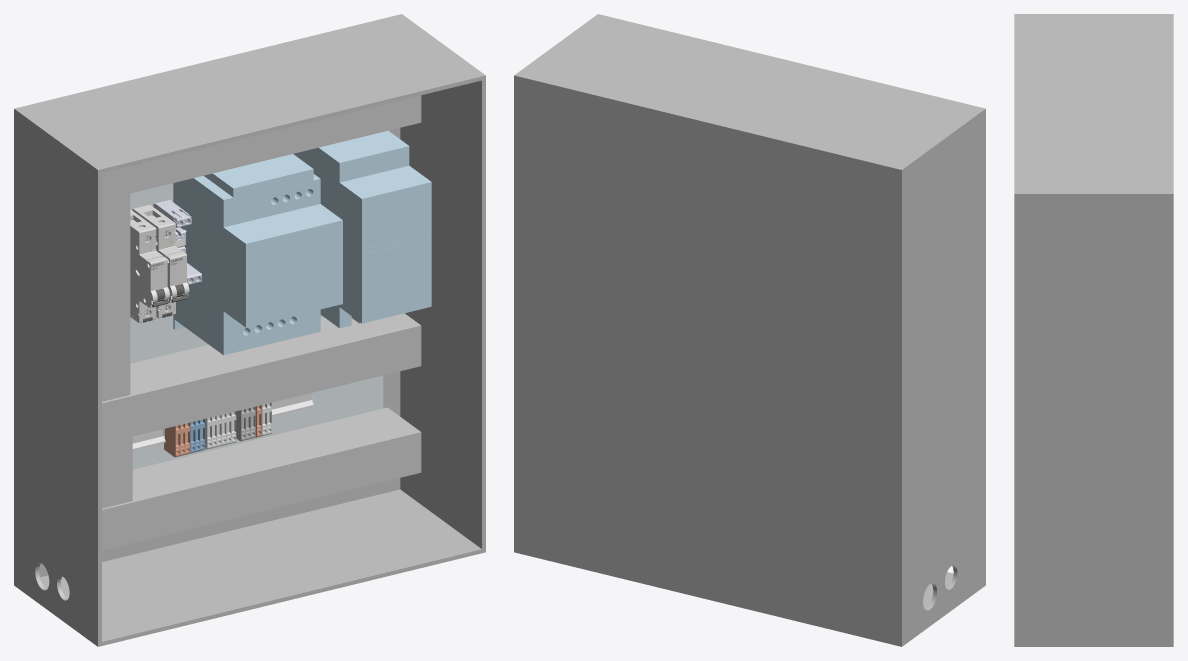
File: KENAR_YUVARLAM-v4.glb
3 views of the same model, side by side, from view 1: azimuth 30°, elevation 25°; view 2: azimuth 150°, elevation 25°; view 3: azimuth 270°, elevation 25° (orthographic). The views are drawn at different scales.
Parts seen in each view (by area): view 1: 40x47x15 KenarYuvarlama, kenarkapama(Ã¶zel) (×3), delta 1.5kW, delta 0.75kW, ZarfSacÄ±(415x345), KK40x60, Sigorta (×2), kenarkapama2(Ã¶zel), 20 cm, Role; view 2: 40x47x15 KenarYuvarlama; view 3: 40x47x15 KenarYuvarlama.
Part boxes in pixels (left/top/right/bottom): 40x47x15 KenarYuvarlama: left=14, top=14, right=485, bottom=646; kenarkapama(Ã¶zel) (×3): left=102, top=95, right=421, bottom=550; delta 1.5kW: left=173, top=154, right=342, bottom=355; delta 0.75kW: left=293, top=130, right=431, bottom=328; ZarfSacÄ±(415x345): left=130, top=183, right=383, bottom=469; KK40x60: left=102, top=193, right=130, bottom=401; Sigorta (×2): left=130, top=204, right=189, bottom=322; kenarkapama2(Ã¶zel): left=102, top=436, right=132, bottom=508; 20 cm: left=132, top=393, right=313, bottom=450; Role: left=153, top=199, right=201, bottom=284; 40x47x15 KenarYuvarlama: left=514, top=14, right=985, bottom=646; 40x47x15 KenarYuvarlama: left=1014, top=14, right=1173, bottom=646.
Bounding box in the file's own units: 0.4 × 0.47 × 0.15.
